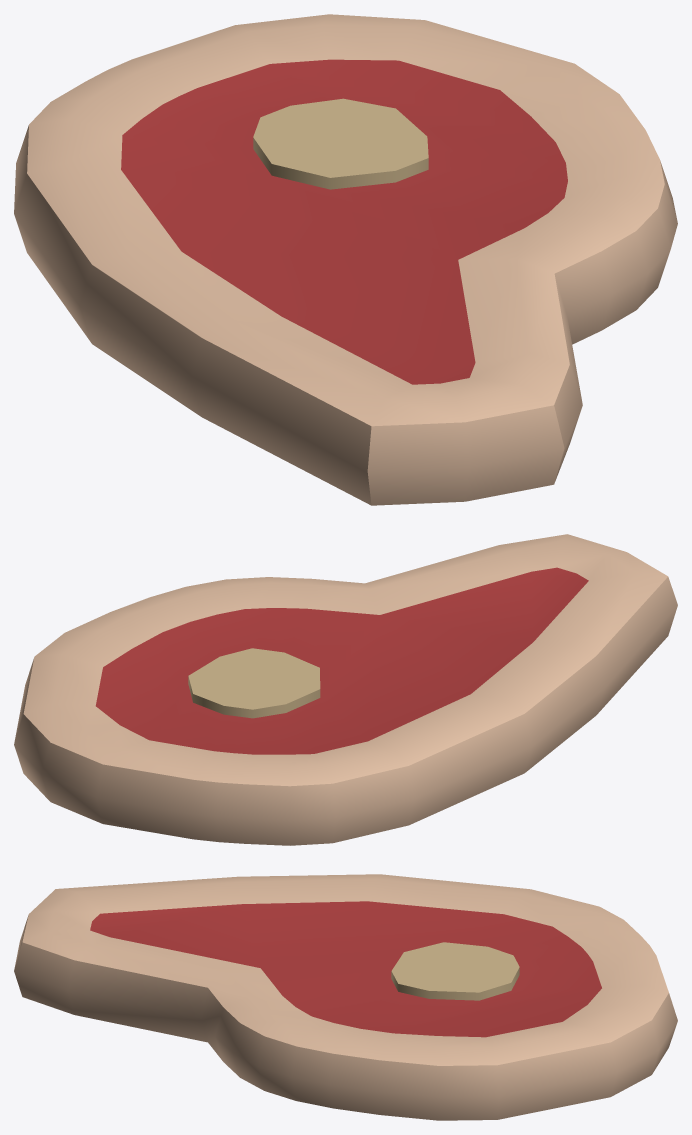
Rendered from ASFTR_RawHumanSteak.fbx.
3 views of the same model, one above another, from view 1: azimuth 30°, elevation 25°; view 2: azimuth 150°, elevation 25°; view 3: azimuth 270°, elevation 25° (orthographic). The views are drawn at different scales.
Parts seen in each view (by area): view 1: ASFTR_HumanSteakUncooked; view 2: ASFTR_HumanSteakUncooked; view 3: ASFTR_HumanSteakUncooked.
Boxes of the visible parts, x1,y1,x2,y2 form: ASFTR_HumanSteakUncooked: [14, 14, 677, 505]; ASFTR_HumanSteakUncooked: [14, 534, 677, 845]; ASFTR_HumanSteakUncooked: [14, 874, 677, 1120].
Bounding box in the file's own units: 51.25 × 8.33 × 72.15.
